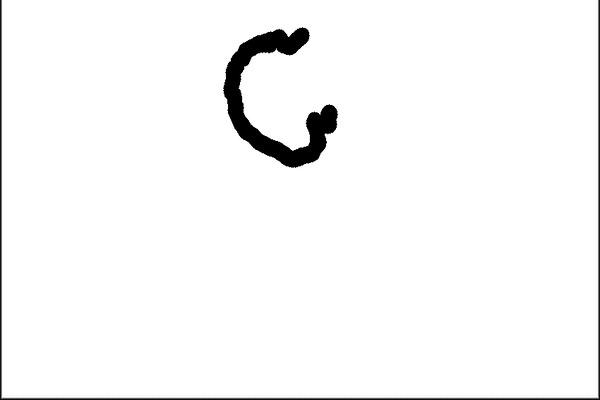C: (219, 24, 342, 172)
